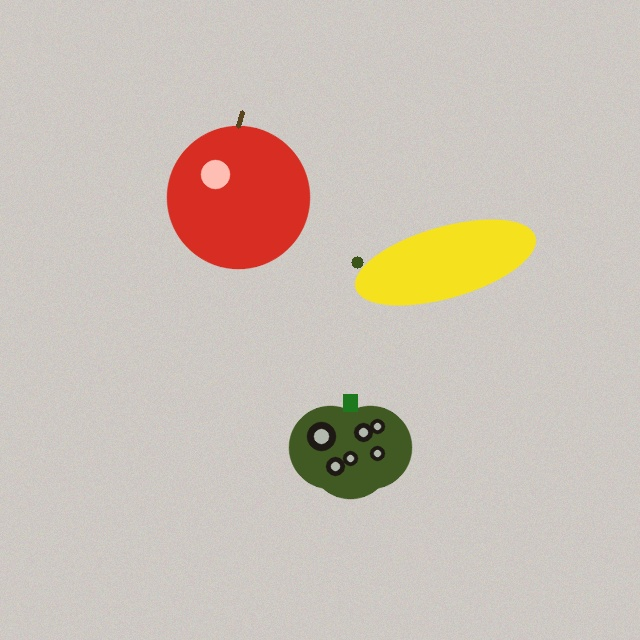Fresh apple: (167, 112, 309, 268)
Fresh banana: (348, 219, 542, 305)
Rotten bell pepper: (289, 394, 411, 498)
